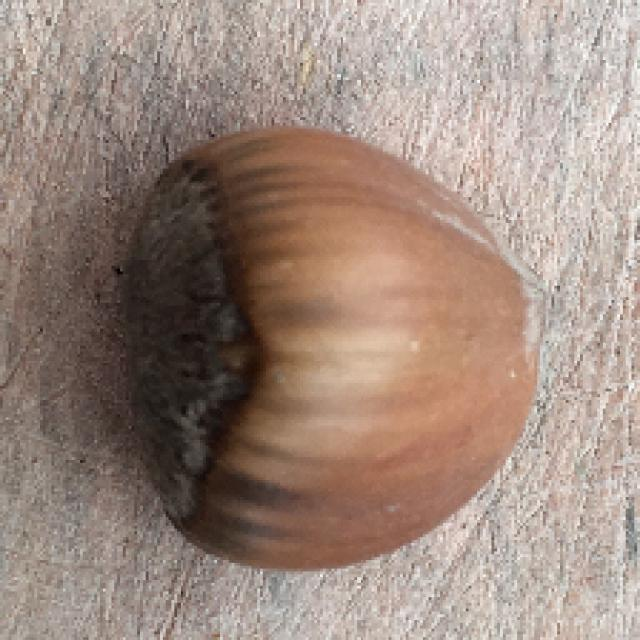damagedHazelnut: (114, 113, 556, 582)
